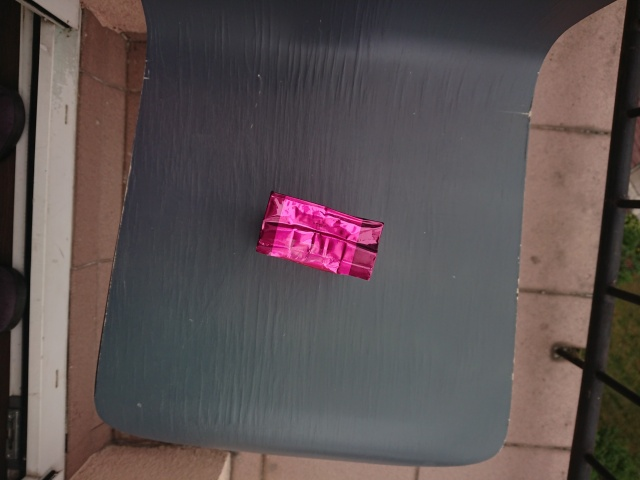Barcaffe Classic Original 225g: (253, 188, 386, 283)
